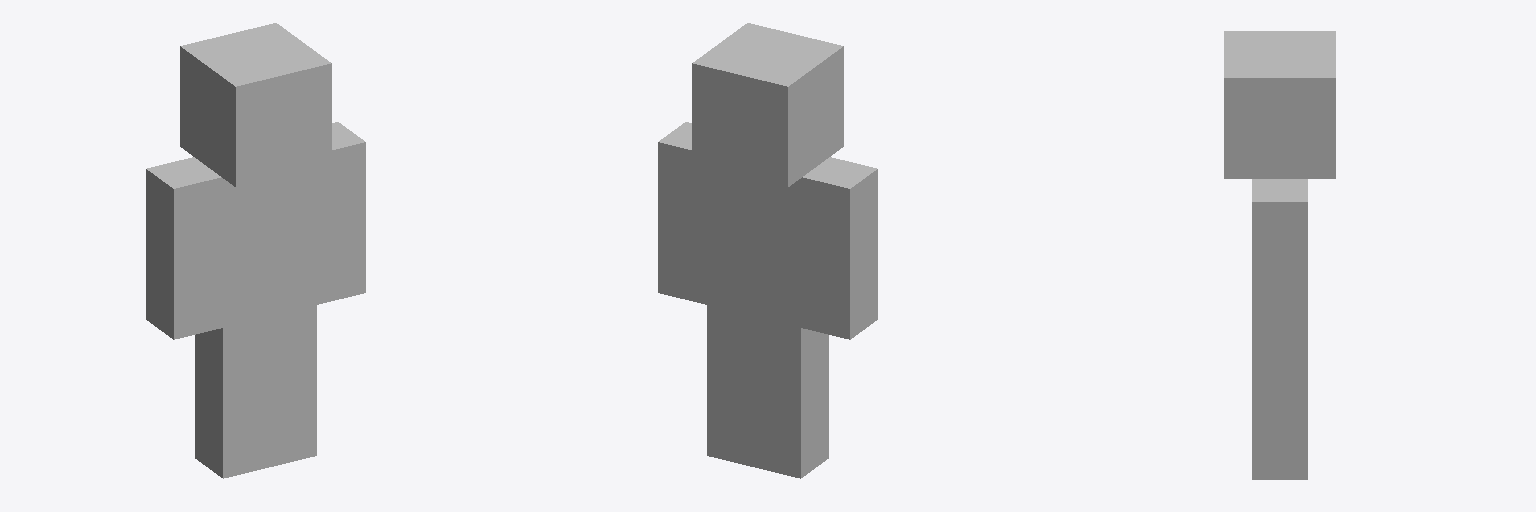
The model's file is zombie.geo.obj.
3 views of the same model, side by side, from view 1: azimuth 30°, elevation 25°; view 2: azimuth 150°, elevation 25°; view 3: azimuth 270°, elevation 25° (orthographic).
Parts seen in each view (by area): view 1: head, body, rightArm, rightLeg, leftArm, leftLeg; view 2: head, body, rightArm, rightLeg, leftArm, leftLeg; view 3: head, leftArm, leftLeg.
Part boxes in pixels (x1,y1,x2,y2): head: (180,23,331,186); body: (222,167,317,327); rightArm: (146,157,221,339); rightLeg: (195,316,270,478); leftArm: (318,122,365,304); leftLeg: (271,305,316,466); head: (692,23,843,186); body: (706,167,801,327); rightArm: (802,157,877,339); rightLeg: (753,317,828,478); leftArm: (658,122,705,304); leftLeg: (707,305,754,466); head: (1224,31,1335,178); leftArm: (1252,179,1307,352); leftLeg: (1252,353,1307,479).
Size of the model in its own units: 1 by 2 by 0.5.